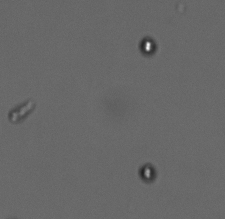Living Cell: (139, 162, 159, 181), (139, 36, 157, 54)
